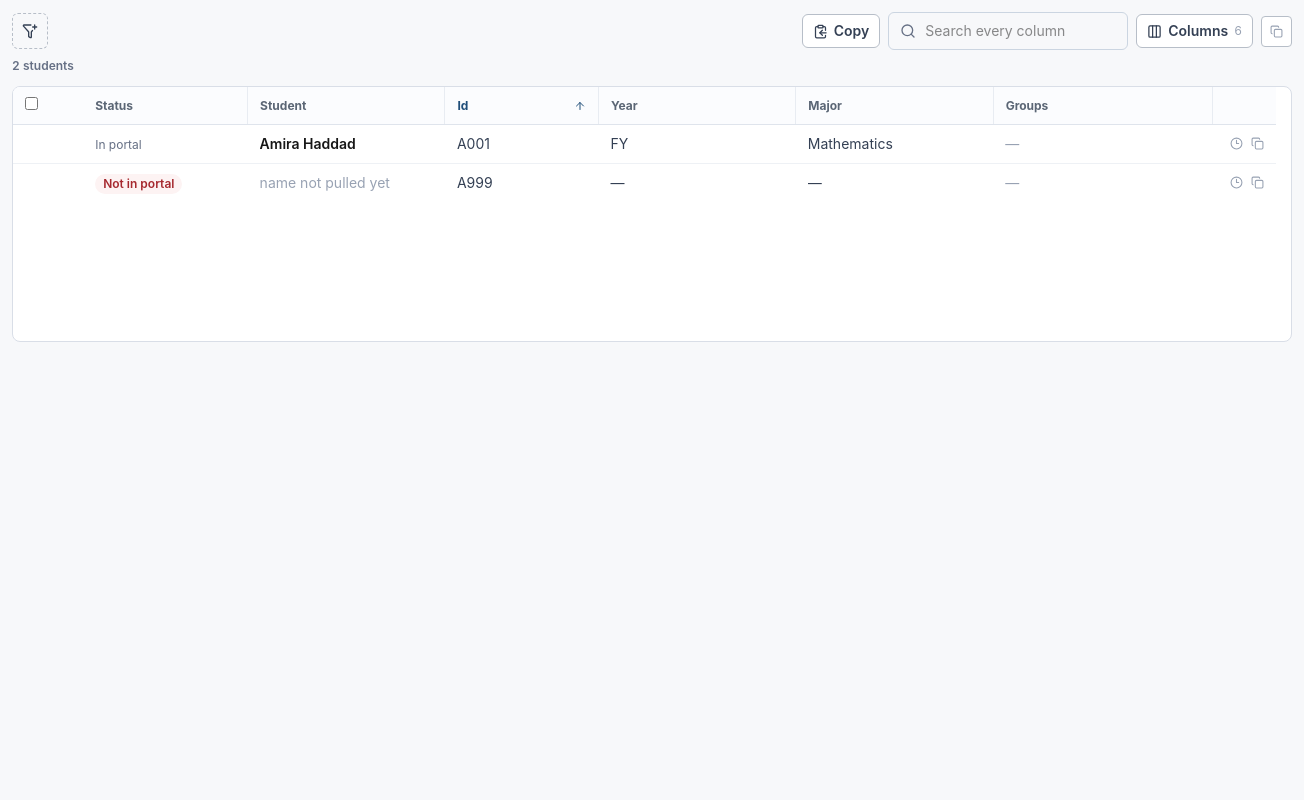
Test: StudentRoster › the history panel › says the student has not been returned, rather than that the browser is empty
The image size is (1304, 800).
Expected: the text "Amira Haddad" is shown, [260, 135, 356, 152]
Click the button named "History for Amira Haddad" at (1236, 144), box [1226, 133, 1247, 154]
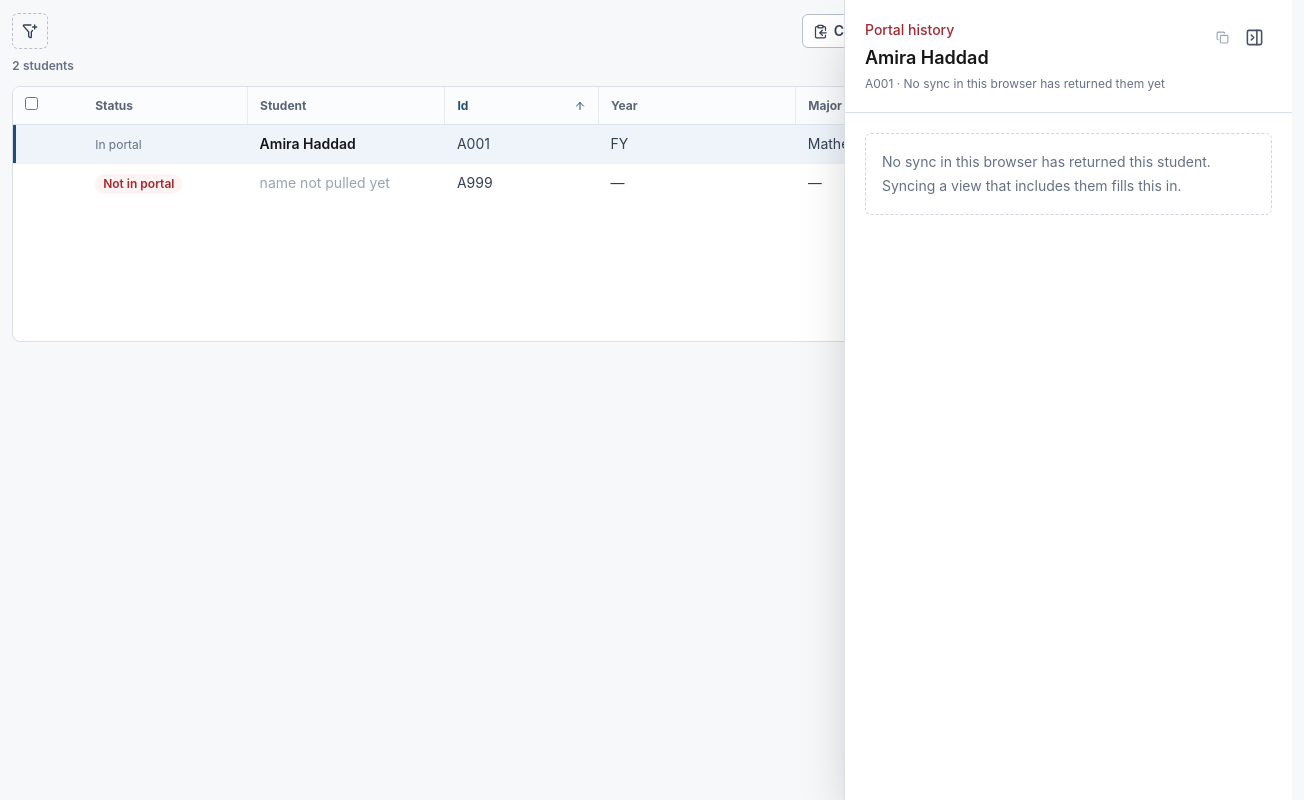
Expected: the text "A001 · No sync in this browser has returned them yet" is shown, [865, 76, 1165, 92]
Expected: the text "Syncing a view that includes them fills this in" is shown, [882, 153, 1211, 194]
